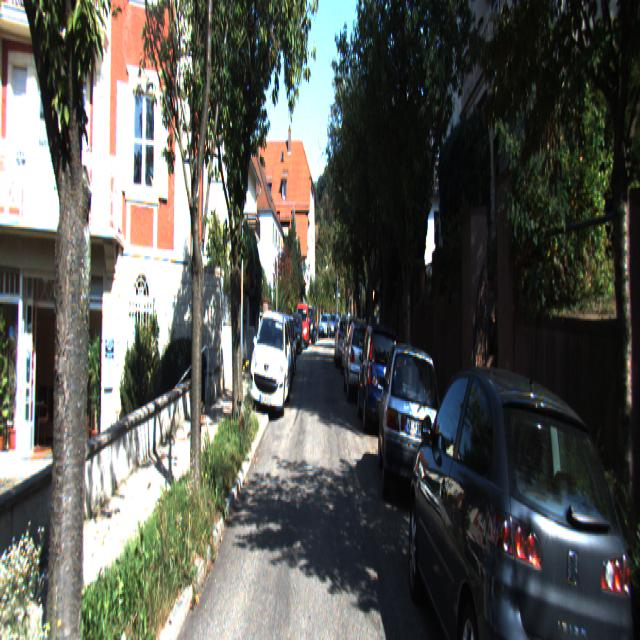Car: (404, 345, 639, 638), (378, 335, 446, 529), (358, 319, 402, 446), (250, 309, 292, 423), (343, 316, 377, 408), (334, 316, 355, 374), (296, 300, 311, 350)
